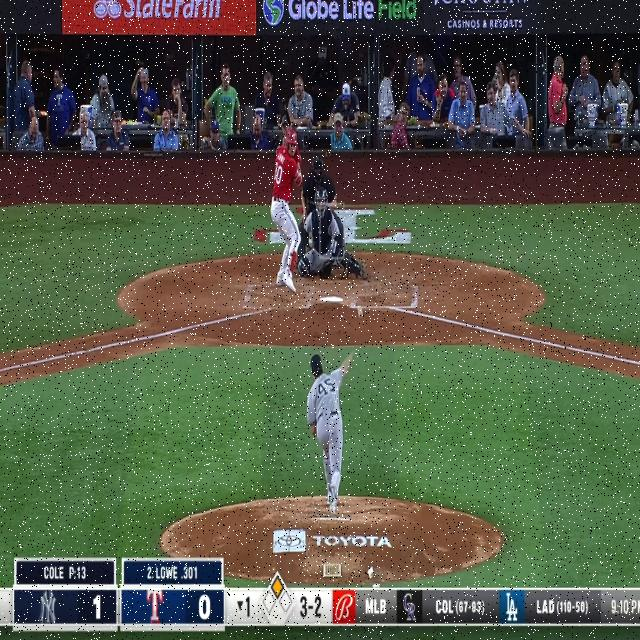baseball: (356, 305, 364, 319)
